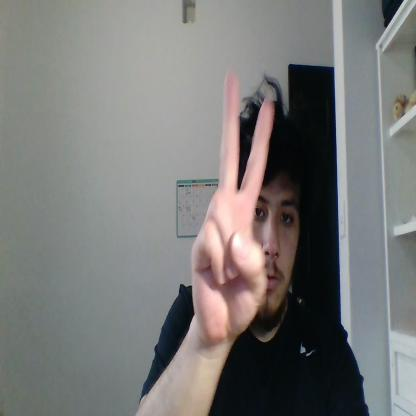V: (192, 72, 274, 344)
